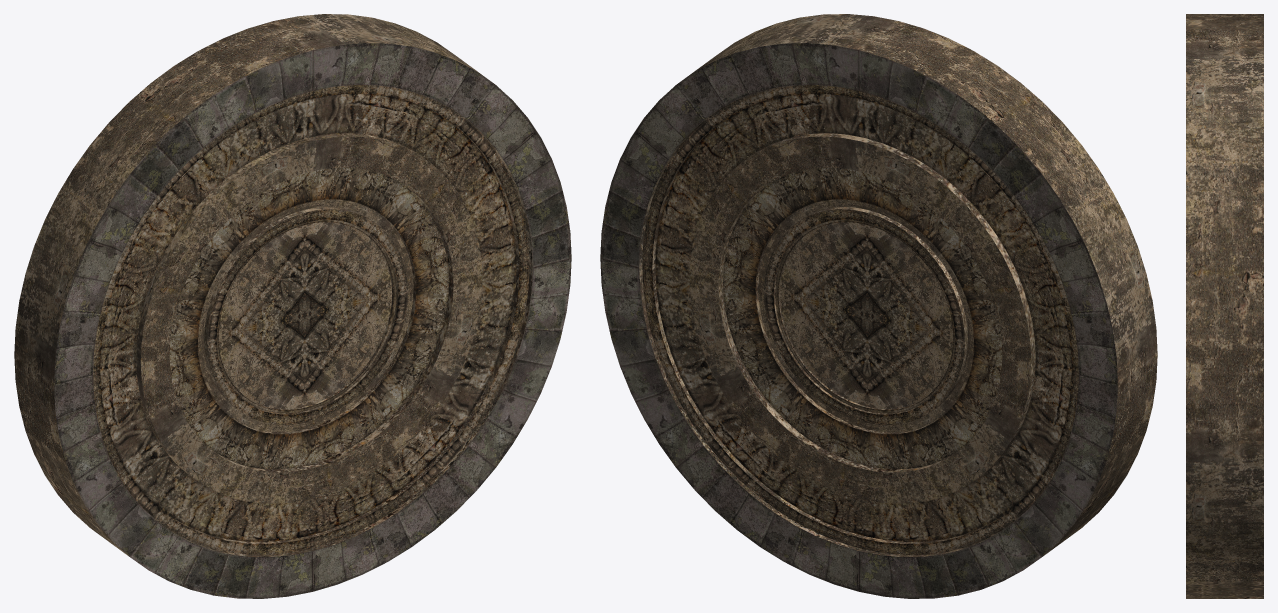
Rendered from materials_5_decoration_plate_5.fbx.
The picture shows the model from 3 angles, left to right: view 1: azimuth 30°, elevation 25°; view 2: azimuth 150°, elevation 25°; view 3: azimuth 270°, elevation 25°; orthographic projection. The views are drawn at different scales.
Parts seen in each view (by area): view 1: materials_5_decoration_plate_5; view 2: materials_5_decoration_plate_5; view 3: materials_5_decoration_plate_5.
Boxes of the visible parts, x1,y1,x2,y2 form: materials_5_decoration_plate_5: (14,14,571,598); materials_5_decoration_plate_5: (600,14,1157,598); materials_5_decoration_plate_5: (1186,14,1263,598).
Bounding box in the file's own units: 104 × 104 × 13.83.
